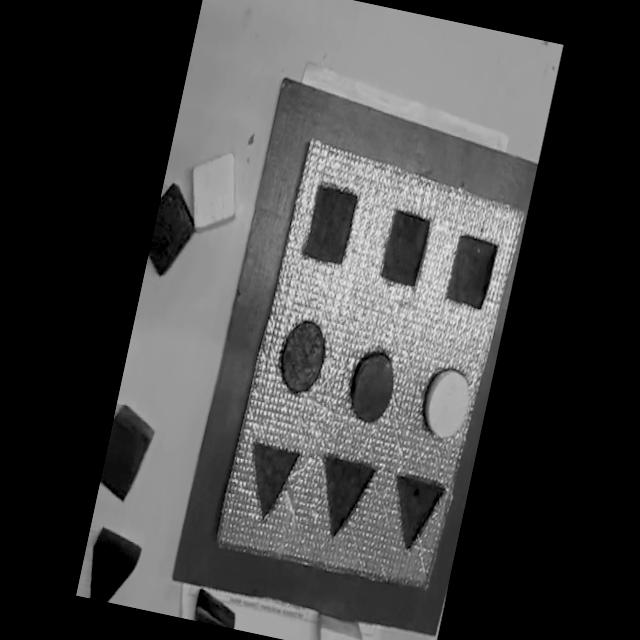bcircle: (272, 315, 332, 397)
bcube: (144, 178, 203, 282)
btriangle: (80, 522, 144, 606)
mtcube: (300, 180, 360, 270), (375, 206, 432, 291), (444, 231, 499, 312)
mttriangle: (306, 450, 378, 544), (382, 471, 448, 556), (238, 441, 302, 526)
rcircle: (340, 343, 402, 429)
rcube: (96, 401, 158, 506)
rtriangle: (192, 587, 241, 628)
wb: (212, 136, 529, 598)
ycircle: (416, 362, 476, 443)
ycube: (180, 144, 248, 240)
ytriangle: (312, 609, 367, 640)
